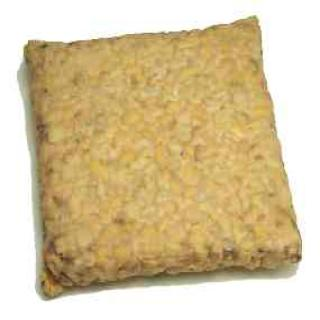Tempe: (20, 15, 303, 299)
